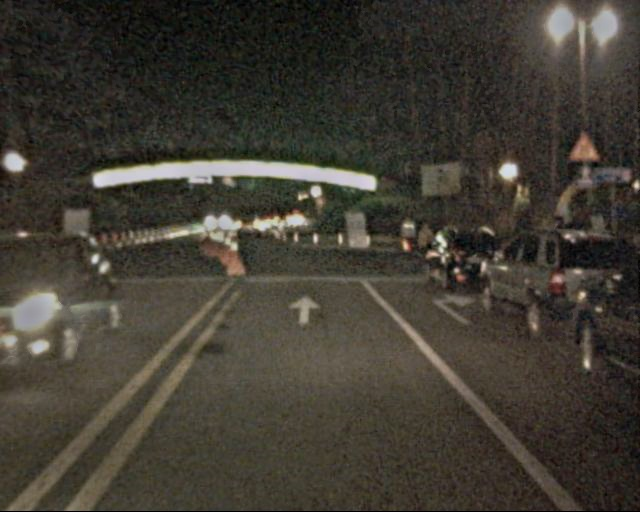person: (398, 217, 419, 269), (416, 222, 437, 272)
